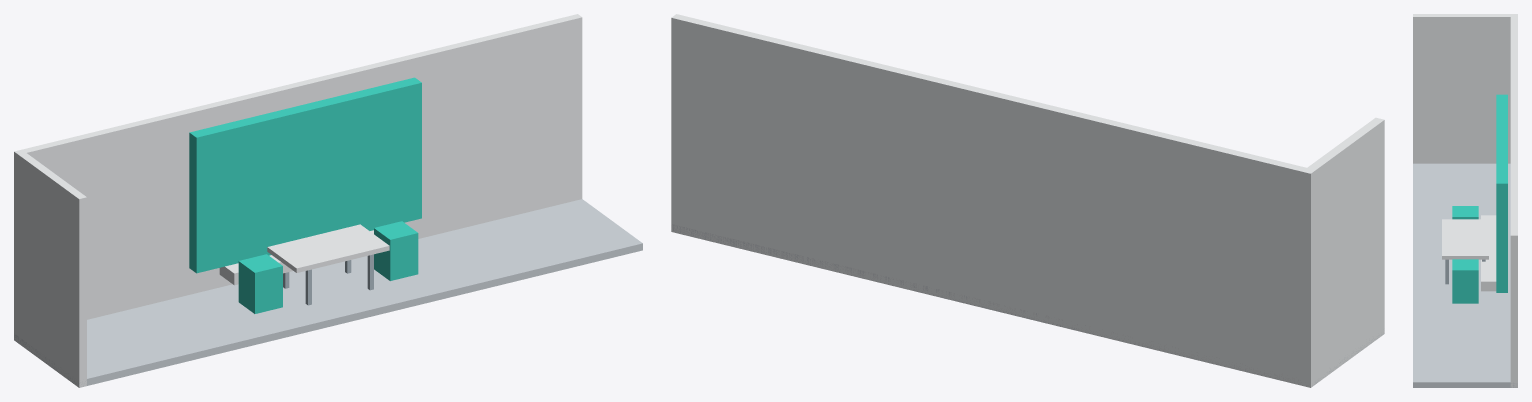
3 views of the same model, side by side, from view 1: azimuth 30°, elevation 25°; view 2: azimuth 150°, elevation 25°; view 3: azimuth 270°, elevation 25° (orthographic). The views are drawn at different scales.
Parts seen in each view (by area): view 1: Exhibition Booth Concept; view 2: Exhibition Booth Concept; view 3: Exhibition Booth Concept.
Part boxes in pixels (x1,y1,x2,y2): Exhibition Booth Concept: (14,14,642,387); Exhibition Booth Concept: (671,14,1384,387); Exhibition Booth Concept: (1413,14,1517,387).
Size of the model in its own units: 10 by 3.2 by 2.
